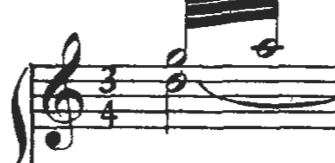treble_clef: (41, 25, 91, 160)
